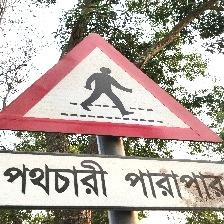Pedestrian-crossing: (0, 27, 224, 210)
